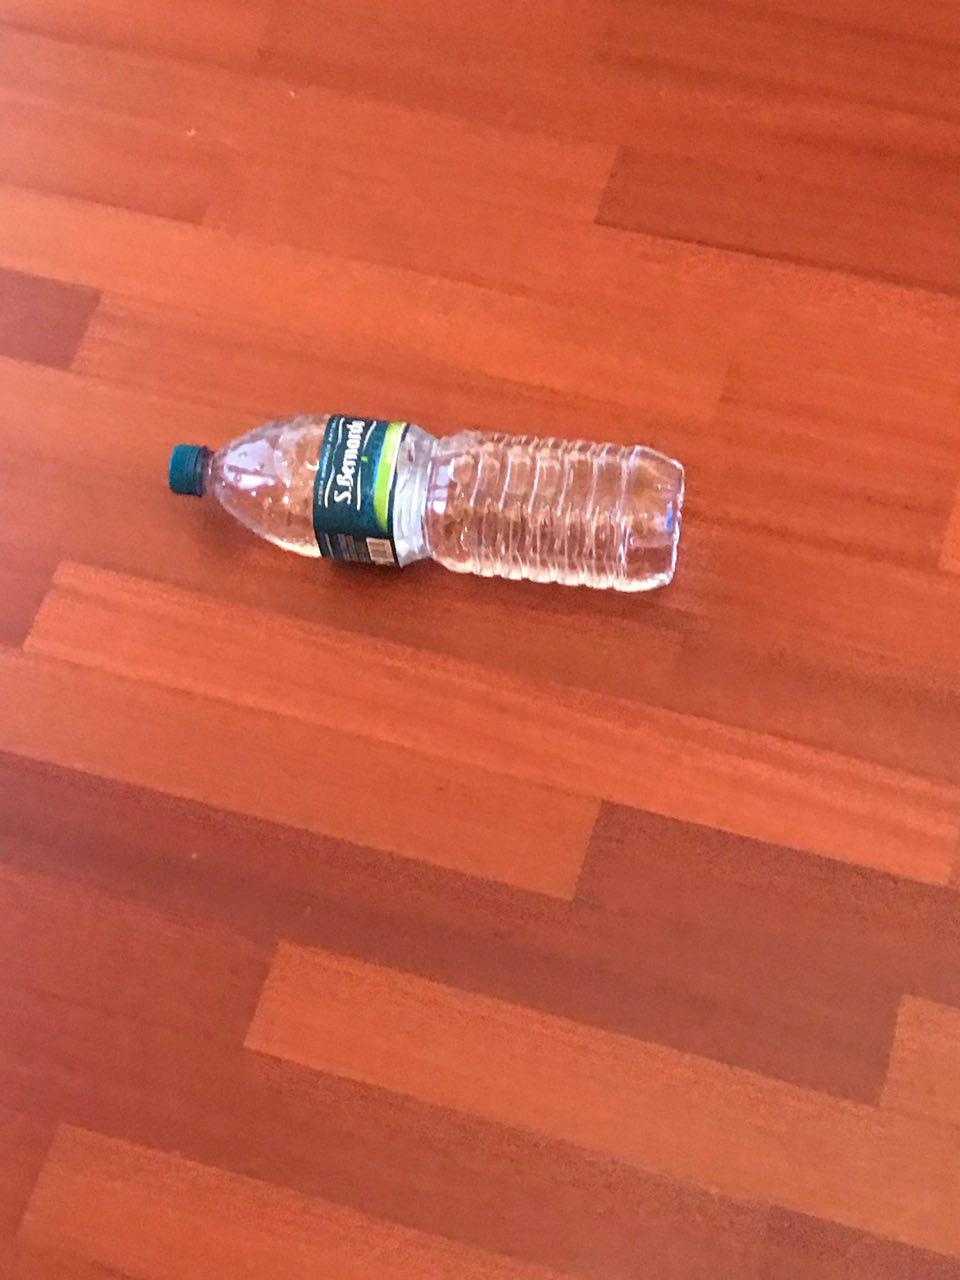san_bernardo: (166, 410, 683, 594)
